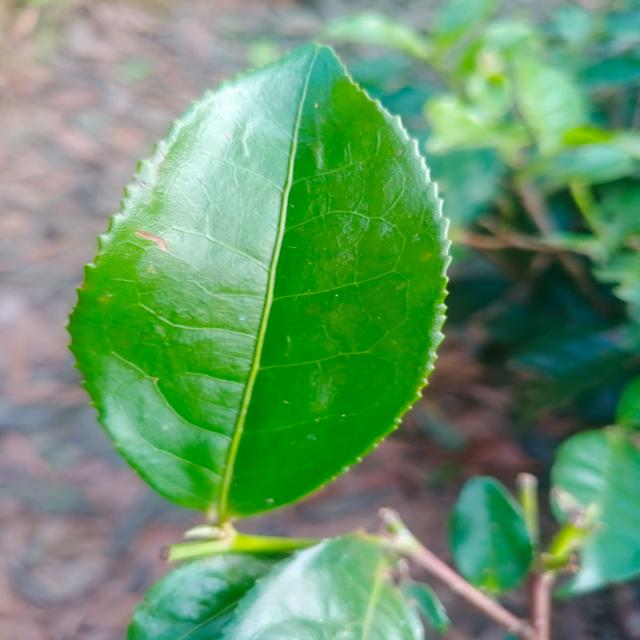Category D(7+ days, Not for Tea): (47, 26, 464, 533)
